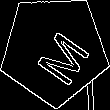M_NW: (22, 16, 87, 83)
